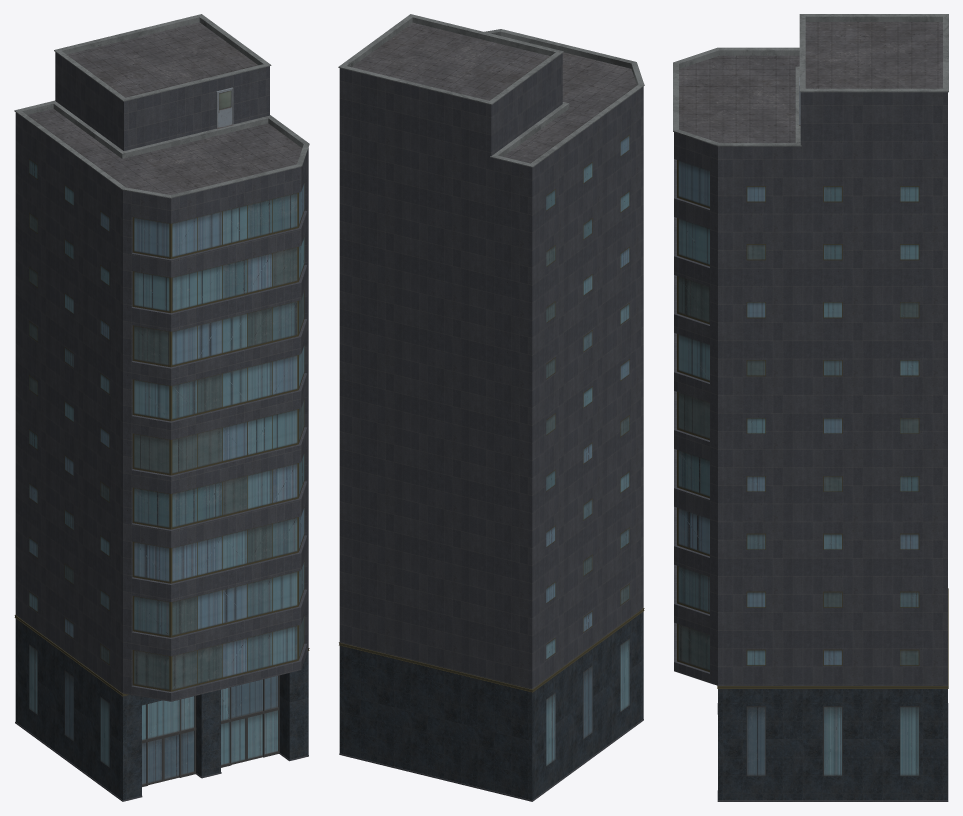
Rendered from jctBld12_C_low.fbx.
3 views of the same model, side by side, from view 1: azimuth 30°, elevation 25°; view 2: azimuth 150°, elevation 25°; view 3: azimuth 270°, elevation 25° (orthographic). The views are drawn at different scales.
Parts seen in each view (by area): view 1: jctBld12_C_low; view 2: jctBld12_C_low; view 3: jctBld12_C_low.
Part boxes in pixels (left/top/right/bottom): jctBld12_C_low: left=14, top=14, right=309, bottom=801; jctBld12_C_low: left=338, top=14, right=644, bottom=801; jctBld12_C_low: left=673, top=14, right=948, bottom=801.
Size of the model in its own units: 1160 by 3925 by 1380.
